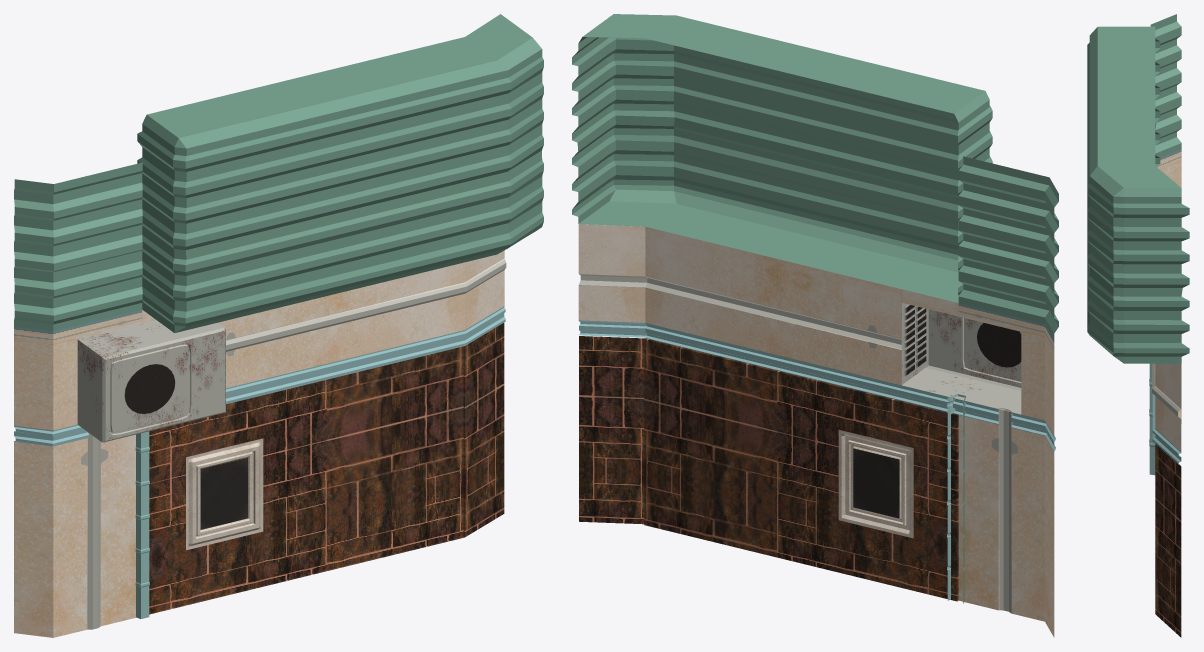
Rendered from trimsheettextured.fbx.
3 views of the same model, side by side, from view 1: azimuth 30°, elevation 25°; view 2: azimuth 150°, elevation 25°; view 3: azimuth 270°, elevation 25° (orthographic). The views are drawn at different scales.
Parts seen in each view (by area): view 1: Plane.012, Cube; view 2: Plane.012, Cube; view 3: Plane.012, Cube.
Boxes of the visible parts, x1,y1,x2,y2 form: Plane.012: (14, 14, 543, 637); Cube: (135, 431, 149, 618); Plane.012: (572, 14, 1058, 637); Cube: (947, 394, 965, 603); Plane.012: (1087, 14, 1189, 637); Cube: (1149, 363, 1155, 475).
Bounding box in the file's own units: 227 × 219 × 45.22.
